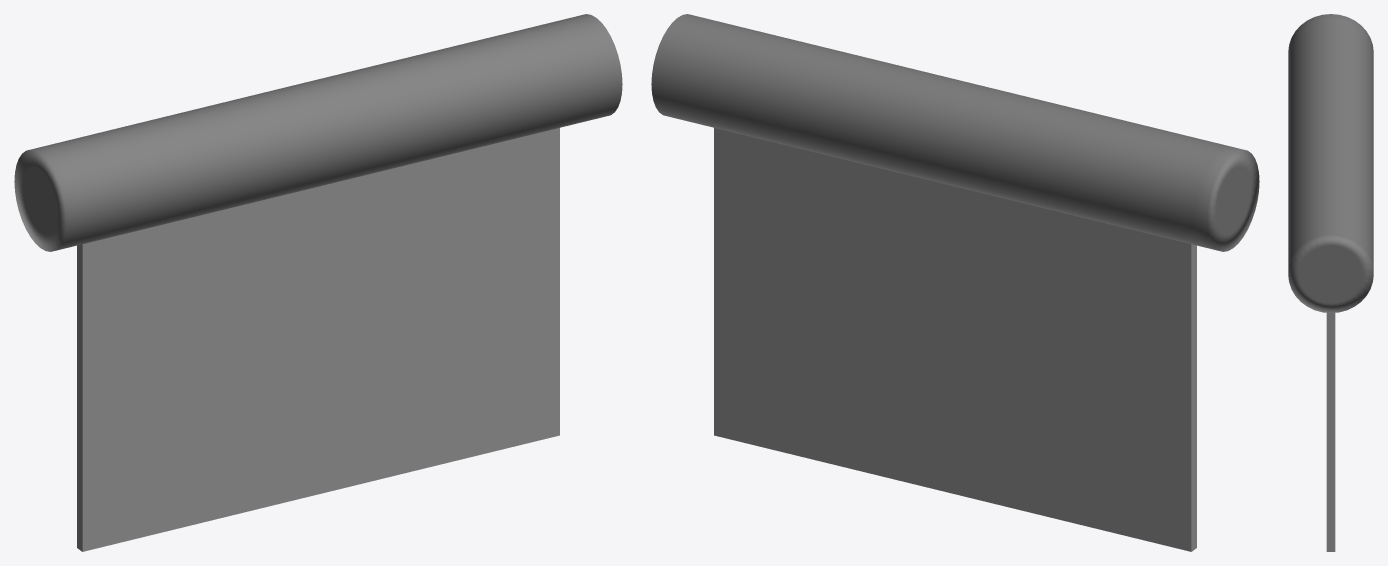
Rendered from pemotong adonan.fbx.
The picture shows the model from 3 angles, left to right: view 1: azimuth 30°, elevation 25°; view 2: azimuth 150°, elevation 25°; view 3: azimuth 270°, elevation 25°; orthographic projection. The views are drawn at different scales.
Parts seen in each view (by area): view 1: Cube, Cylinder; view 2: Cube, Cylinder; view 3: Cylinder, Cube.
Part boxes in pixels (<box>): Cube: <box>77,128,559,551</box>; Cylinder: <box>14,14,622,251</box>; Cube: <box>714,128,1196,551</box>; Cylinder: <box>651,14,1259,251</box>; Cylinder: <box>1288,14,1373,313</box>; Cube: <box>1326,313,1335,551</box>.
Size of the model in its own units: 313 by 219 by 51.17.
Materials: 1 (1 with a texture image).
